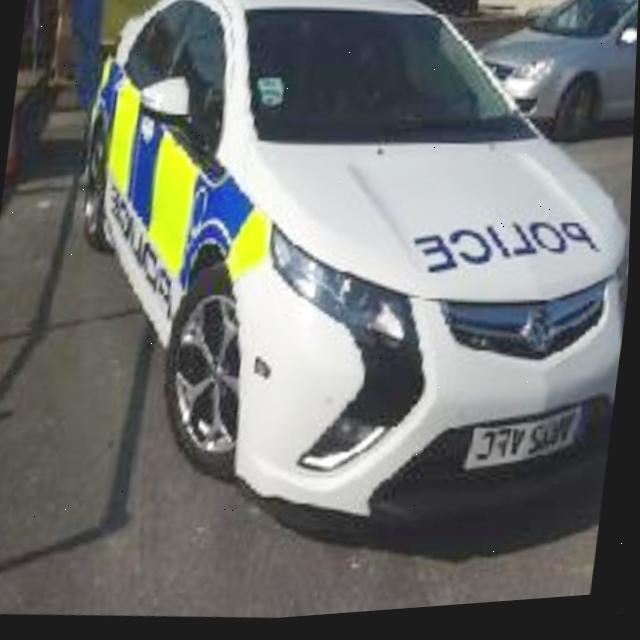emergency: (44, 0, 640, 570)
